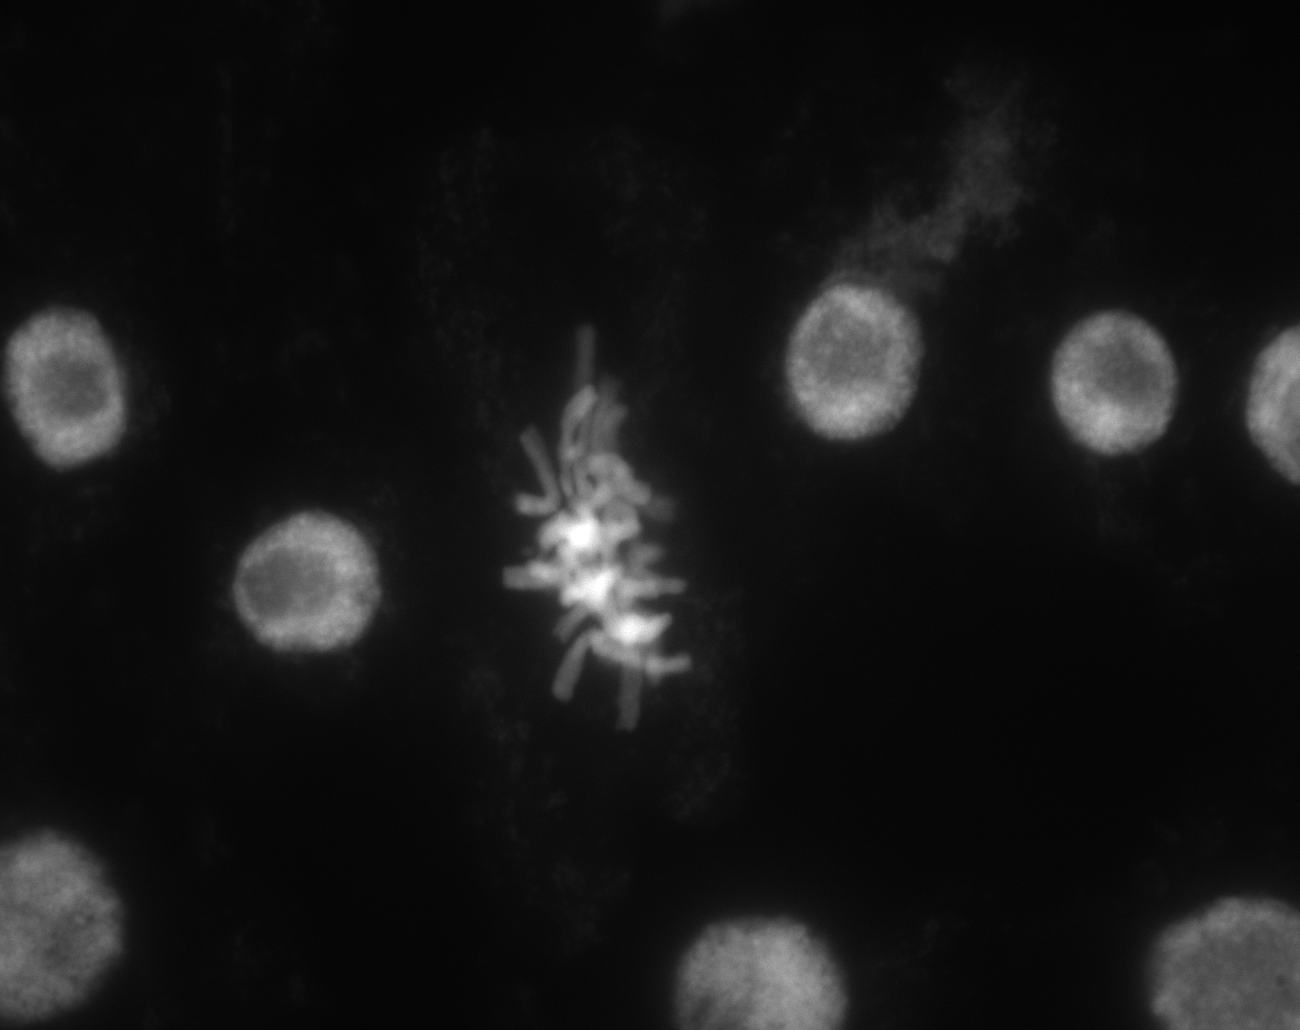Chromosomes: (425, 327, 744, 706)
Others: (764, 32, 1125, 379), (194, 477, 422, 686), (1017, 283, 1213, 483), (745, 265, 947, 460), (7, 786, 168, 1030), (12, 274, 164, 491), (1104, 863, 1300, 1030), (646, 885, 867, 1027)
